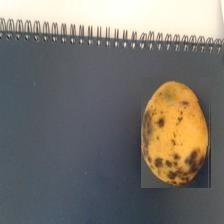Mango Semirotten: (142, 77, 212, 188)
